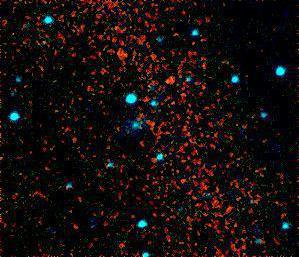star: (65, 211, 95, 241)
